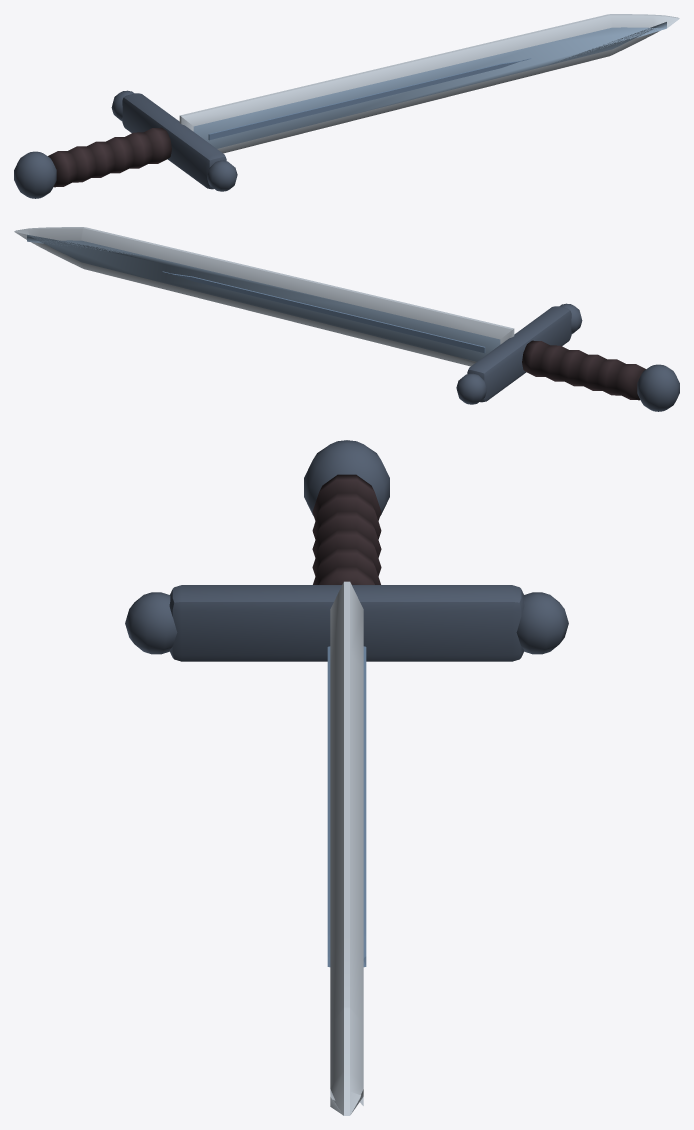
File: sword_basic.glb
The picture shows the model from 3 angles, top to bottom: view 1: azimuth 30°, elevation 25°; view 2: azimuth 150°, elevation 25°; view 3: azimuth 270°, elevation 25°; orthographic projection. The views are drawn at different scales.
Parts seen in each view (by area): view 1: sword_basic; view 2: sword_basic; view 3: sword_basic.
Boxes of the visible parts, x1=… form: sword_basic: x1=14, y1=14, x2=679, y2=198; sword_basic: x1=14, y1=227, x2=679, y2=411; sword_basic: x1=125, y1=440, x2=568, y2=1115.
Bounding box in the file's own units: 1.46 × 0.1 × 0.424.
